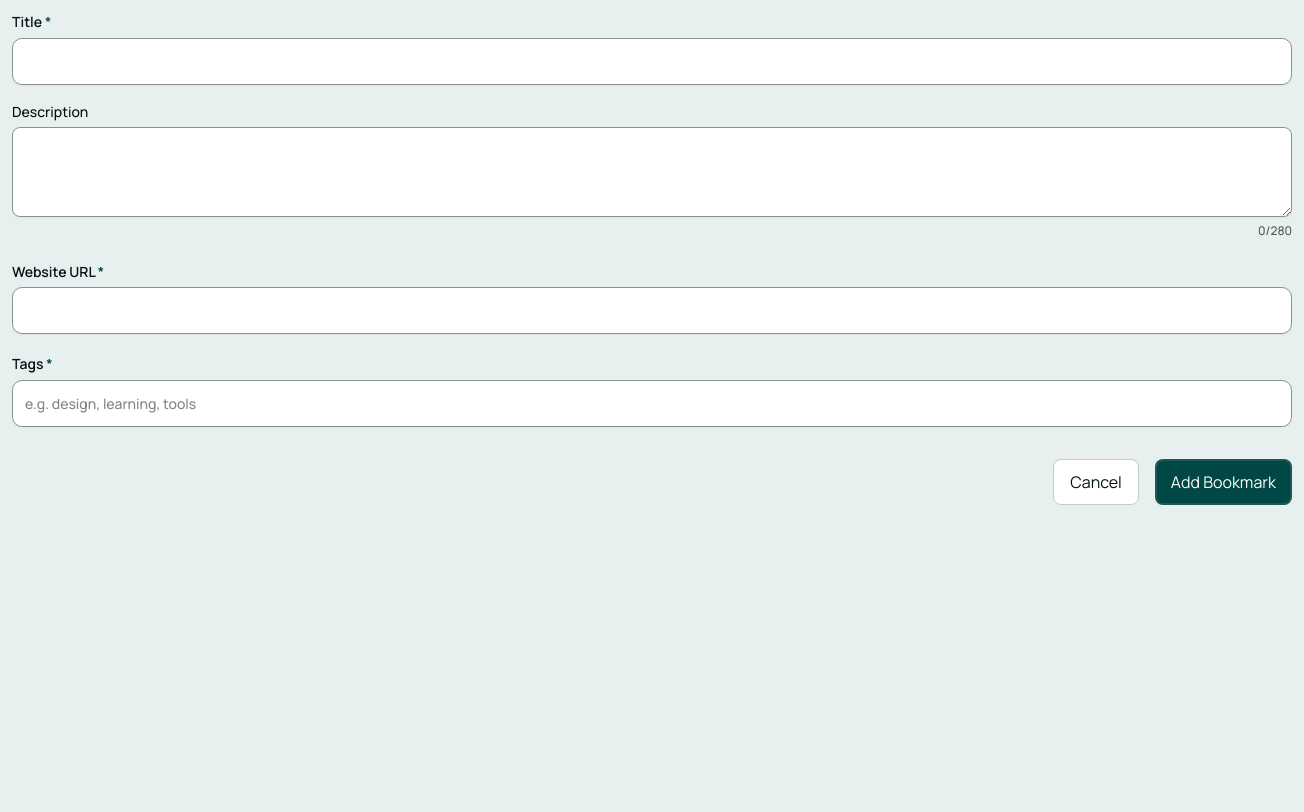
Test: BookmarkForm › shows error messages when required fields are empty
This screenshot has width=1304, height=812.
Step 1. Click the button "Add Bookmark" → (1223, 482), box top-left (1155, 459), bottom-right (1292, 505)
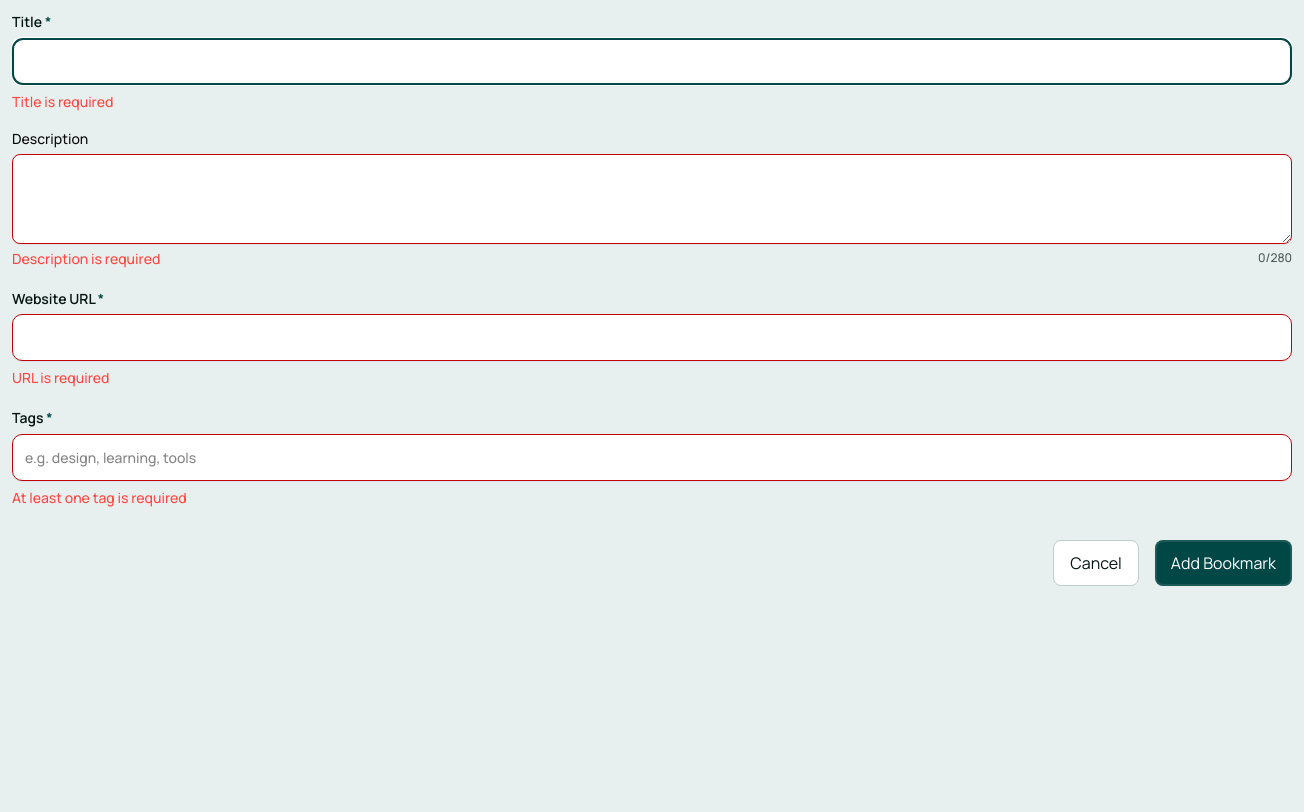
Expected: the text "Title is required" is shown, top-left (12, 92), bottom-right (113, 111)
Expected: the text "Description is required" is shown, top-left (12, 248), bottom-right (160, 269)
Expected: the text "URL is required" is shown, top-left (12, 368), bottom-right (109, 387)
